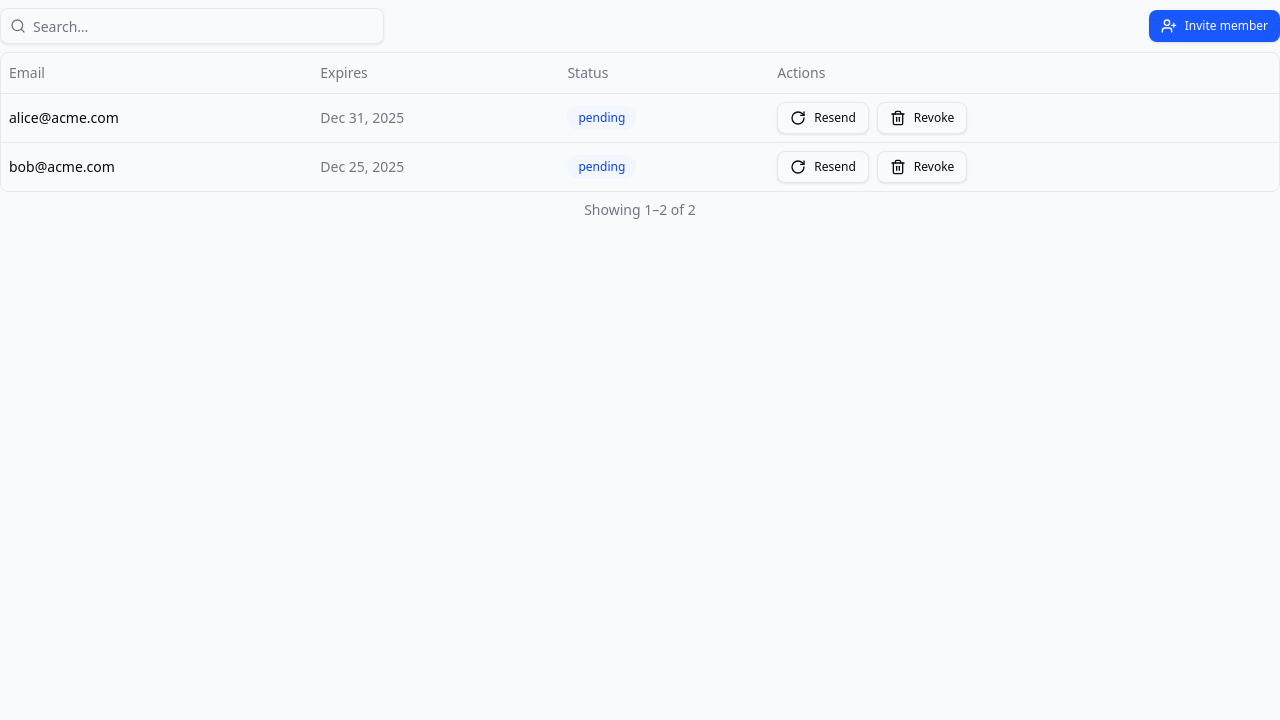
InvitationsTable › revoke action › clicking Revoke opens a confirm dialog
Check: the text "alice@acme.com" is shown, box [9, 108, 119, 126]
Click the button "Revoke" in the row of "alice@acme.com". click: (922,118)
box: [877, 102, 967, 134]
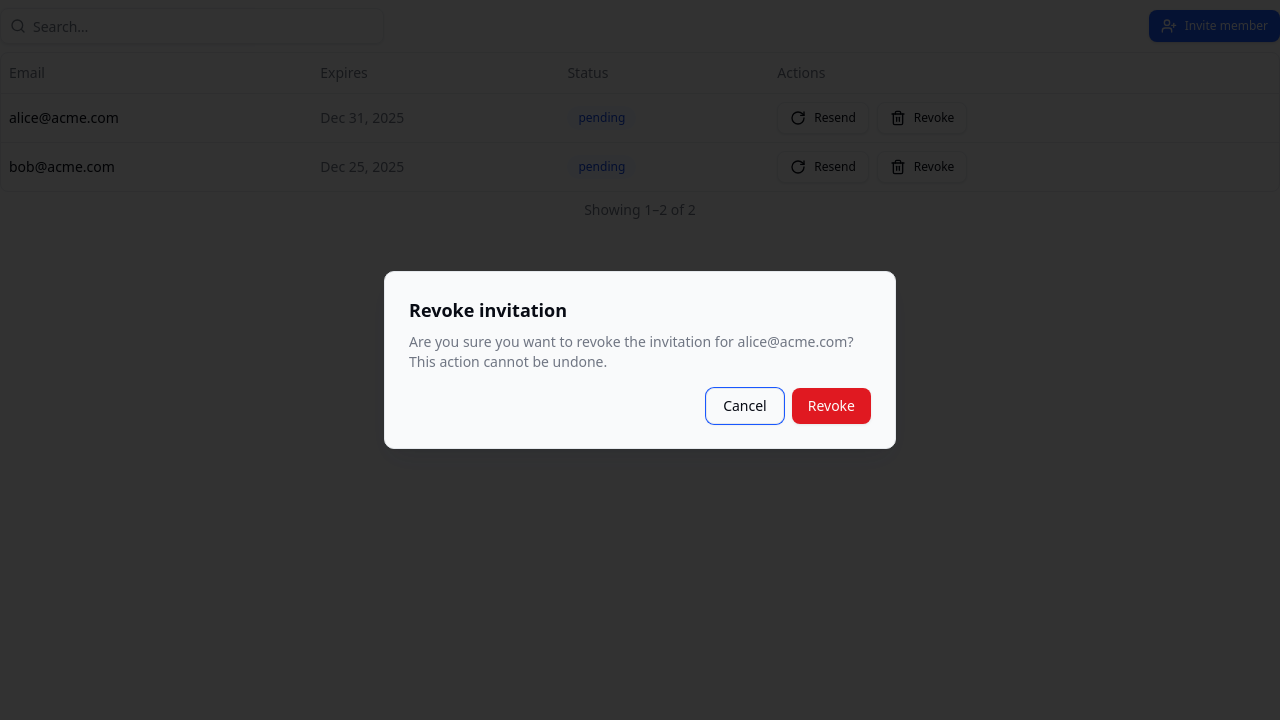
Check: the dialog is shown, box [384, 271, 896, 449]
Check: the dialog shows "alice@acme.com", box [738, 332, 847, 351]
